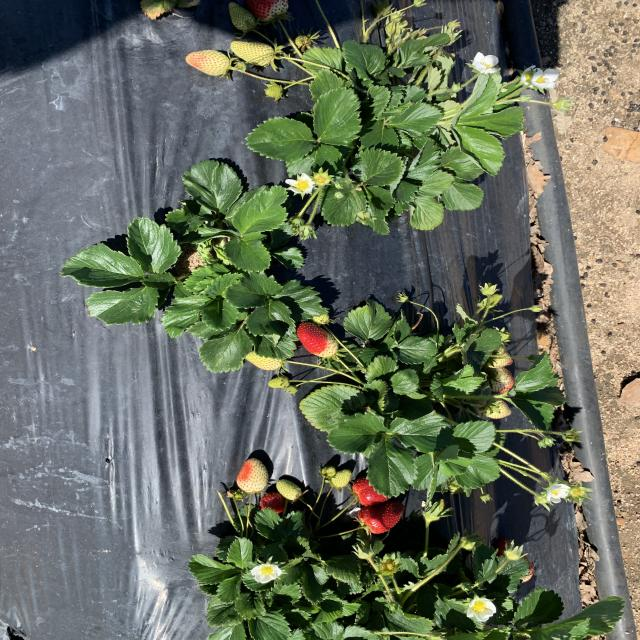unripe: (291, 320, 342, 359), (350, 476, 408, 506), (355, 501, 407, 534), (258, 492, 292, 516)
